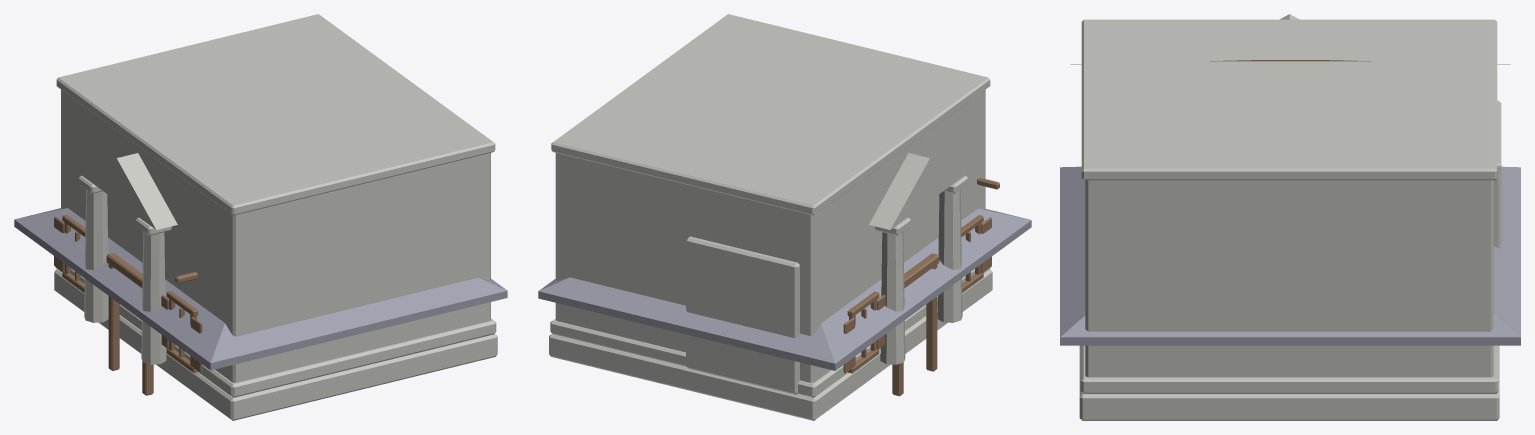
File: town_town_bank.glb
The picture shows the model from 3 angles, left to right: view 1: azimuth 30°, elevation 25°; view 2: azimuth 150°, elevation 25°; view 3: azimuth 270°, elevation 25°; orthographic projection. The views are drawn at different scales.
Visible parts, largest first — view 1: world; view 2: world; view 3: world.
Part boxes in pixels (x1,y1,x2,y2): world: (14, 14, 507, 420); world: (538, 14, 1031, 420); world: (1060, 14, 1520, 420).
Size of the model in its own units: 1.76 by 1.46 by 2.
